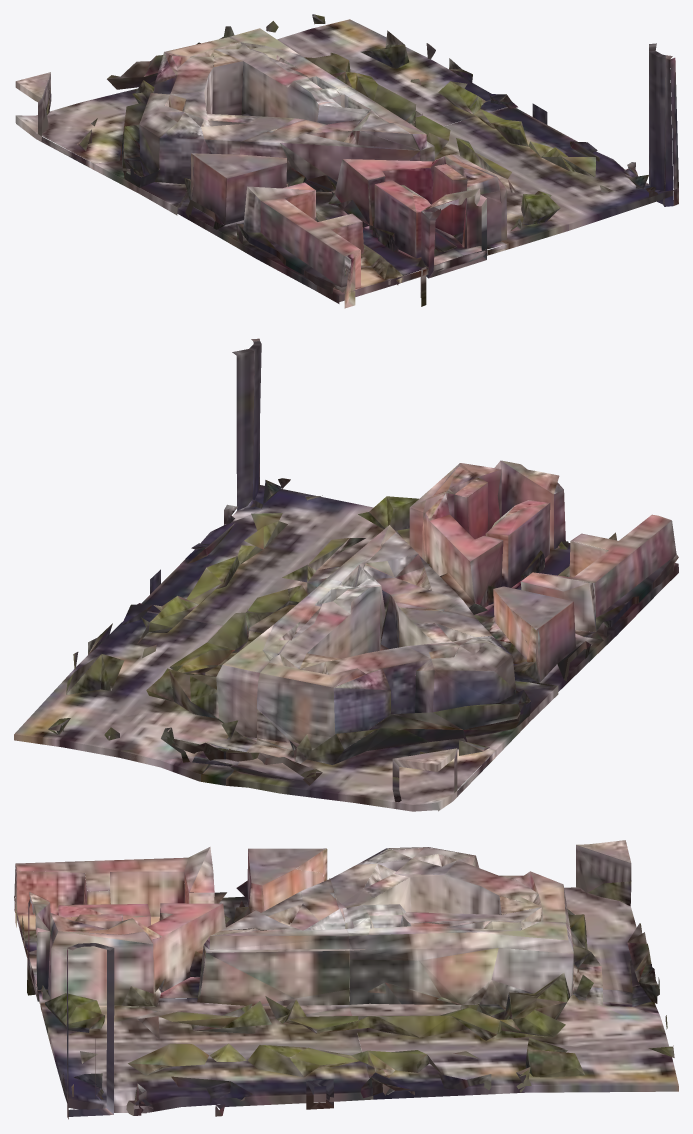
The picture shows the model from 3 angles, top to bottom: view 1: azimuth 30°, elevation 25°; view 2: azimuth 150°, elevation 25°; view 3: azimuth 270°, elevation 25°; orthographic projection. The views are drawn at different scales.
Parts seen in each view (by area): view 1: Mesh_0; view 2: Mesh_0; view 3: Mesh_0.
Boxes of the visible parts, left/top/right/bottom form: Mesh_0: left=15, top=14, right=678, bottom=308; Mesh_0: left=14, top=338, right=678, bottom=811; Mesh_0: left=14, top=840, right=678, bottom=1119.
Size of the model in its own units: 271 by 105 by 330.
Materials: 2 (2 with a texture image).
